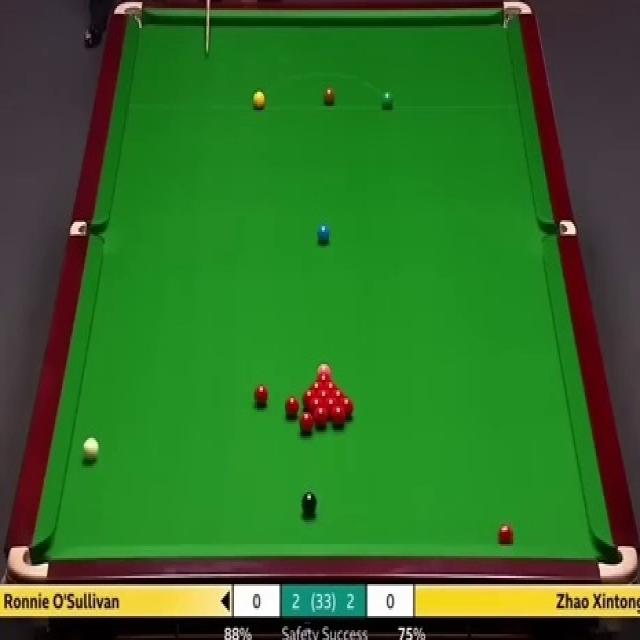black-ball: (302, 491, 318, 518)
blue-ball: (316, 222, 330, 246)
brown-ball: (323, 89, 335, 106)
green-ball: (382, 90, 393, 110)
pink-ball: (316, 360, 332, 376)
red-ball: (252, 382, 272, 408), (497, 522, 513, 546), (315, 404, 331, 428), (284, 395, 299, 420), (300, 412, 316, 435), (338, 396, 355, 416), (331, 406, 347, 427), (309, 397, 324, 412), (325, 398, 338, 415), (303, 391, 315, 407), (322, 382, 340, 392), (331, 389, 347, 400), (315, 372, 332, 382), (316, 390, 332, 400), (307, 382, 323, 391)
white-ball: (82, 436, 99, 460)
yellow-ball: (252, 89, 267, 110)
